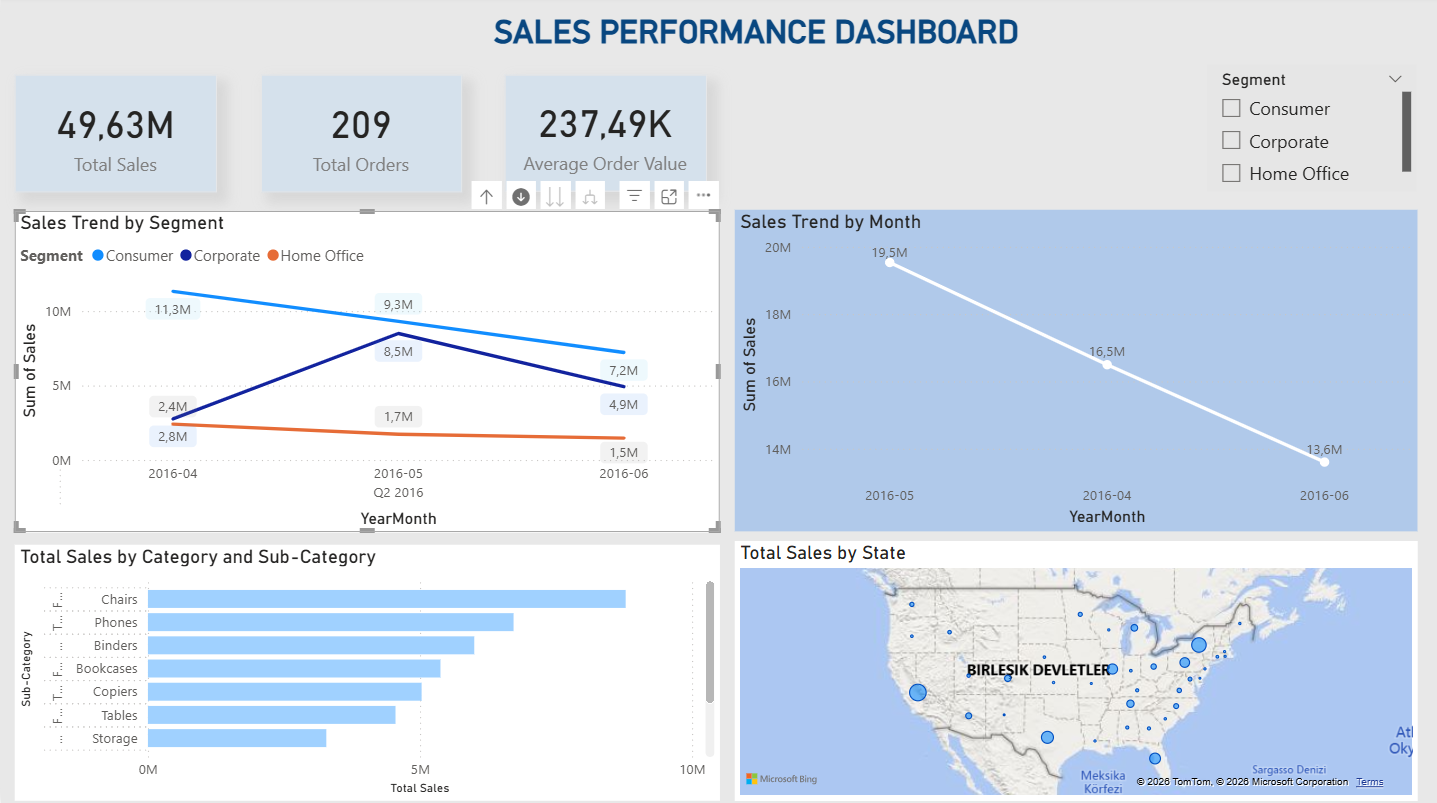

This screenshot's page, from the dashboard's own definition file:
{"tool":"powerbi","page":{"name":"Page 1","canvas":[1280,720],"ordinal":0},"visuals":[{"type":"lineChart","title":"Sales Trend by Segment","fields":{"Y":["Sum(train.Sales)"],"Category":["train.YearQuarter Hierarchy.YearQuarter","train.YearQuarter Hierarchy.YearMonth"],"Series":["train.Segment"]},"box":[12.1,191,628,286.4],"z":0},{"type":"lineChart","title":"Sales Trend by Month","fields":{"Category":["train.YearMonth"],"Y":["Sum(train.Sales)"]},"box":[653.2,190.7,607.9,286.8],"z":1000},{"type":"card","fields":{"Values":["train.Total Sales"]},"box":[12.1,69.9,180.2,104.9],"z":2000},{"type":"card","fields":{"Values":["train.Total Orders"]},"box":[231.1,69.9,178.9,104.9],"z":3000},{"type":"card","fields":{"Values":["train.Avarage Order Value"]},"box":[448.7,70,179.8,104.3],"z":4000},{"type":"clusteredBarChart","fields":{"Category":["train.Category","train.Sub-Category"],"Y":["train.Total Sales"]},"box":[12.5,488.8,628.4,228],"z":5000},{"type":"slicer","fields":{"Values":["train.Segment"]},"box":[1074.4,61.7,186.6,112.5],"z":6000},{"type":"map","fields":{"Category":["train.State"],"Size":["train.Total Sales"]},"box":[653.3,485.4,607.9,231.4],"z":7000},{"type":"textbox","title":"SALES PERFORMANCE DASHBOARD","box":[362.3,15.1,532.4,79.6],"z":8000}]}

Visuals, with their boxes in screenshot pixels (x1, y1, x2, y2), scaled from the page's 1280x720 canvas onto the 1437x803 screenshot:
"Sales Trend by Segment" lineChart: 14:213:719:532
"Sales Trend by Month" lineChart: 733:213:1416:533
card - train.Total Sales: 14:78:216:195
card - train.Total Orders: 259:78:460:195
card - train.Avarage Order Value: 504:78:706:194
clusteredBarChart - train.Category x train.Sub-Category: 14:545:720:799
slicer - train.Segment: 1206:69:1416:194
map - train.State x train.Total Sales: 733:541:1416:799
"SALES PERFORMANCE DASHBOARD" textbox: 407:17:1004:106
